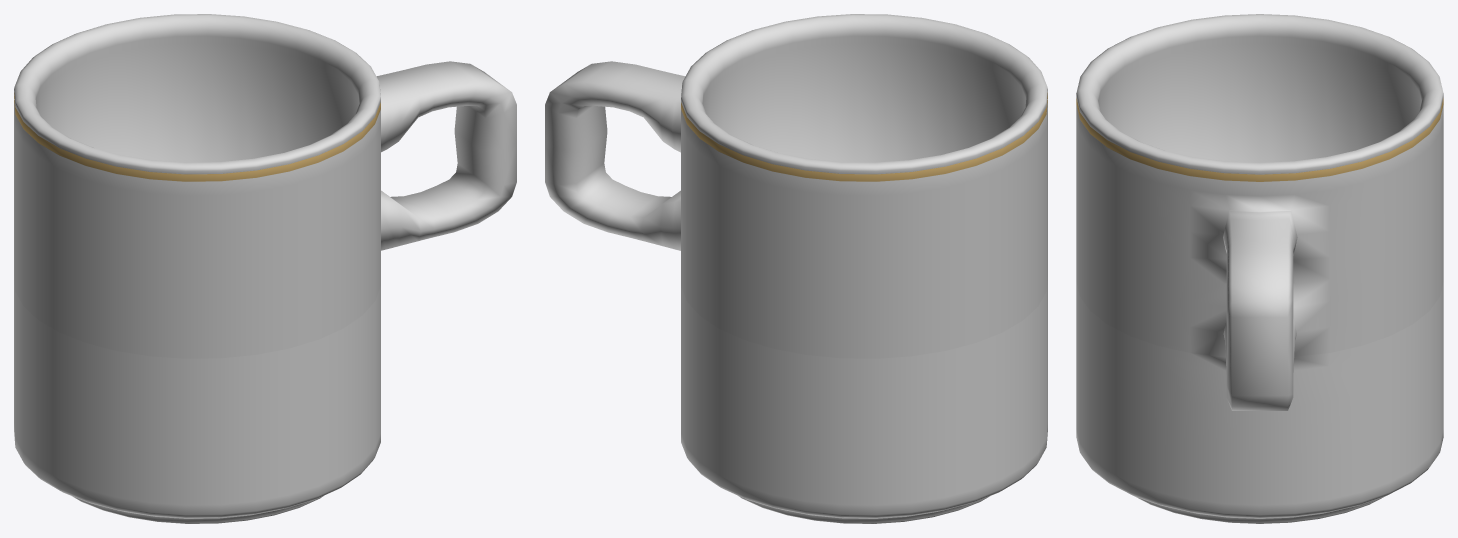
Rendered from mug_3.glb.
The picture shows the model from 3 angles, left to right: view 1: azimuth 30°, elevation 25°; view 2: azimuth 150°, elevation 25°; view 3: azimuth 270°, elevation 25°; orthographic projection.
Visible parts, largest first — view 1: Hipfix zig caneca espresso 80 ML.001; view 2: Hipfix zig caneca espresso 80 ML.001; view 3: Hipfix zig caneca espresso 80 ML.001.
Boxes of the visible parts, x1,y1,x2,y2 form: Hipfix zig caneca espresso 80 ML.001: (14, 14, 516, 523); Hipfix zig caneca espresso 80 ML.001: (545, 14, 1047, 523); Hipfix zig caneca espresso 80 ML.001: (1076, 14, 1443, 523).
Bounding box in the file's own units: 0.1109 × 0.0845 × 0.076.
